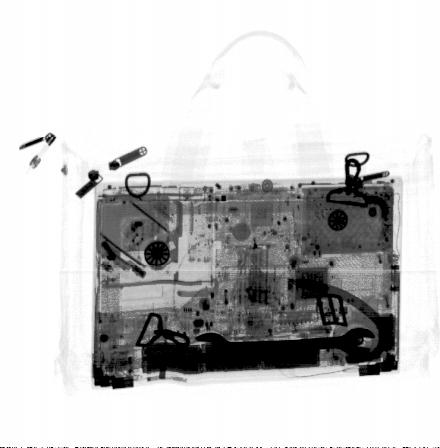Wrench: (192, 326, 379, 368)
